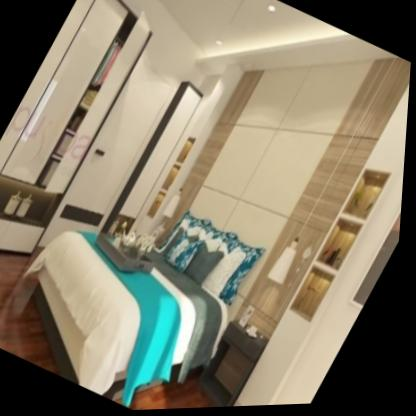Bed: (0, 151, 283, 415)
Closet: (0, 0, 170, 283)
Lamp: (260, 55, 405, 301), (158, 54, 262, 229)
Nightstand: (190, 312, 281, 410)
Wooden floor: (0, 253, 62, 375), (135, 380, 219, 411)
